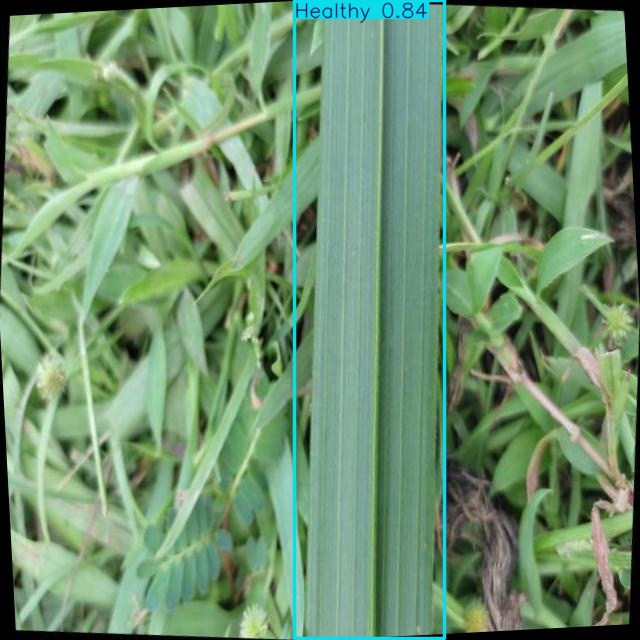Healthy: (295, 0, 444, 639)
